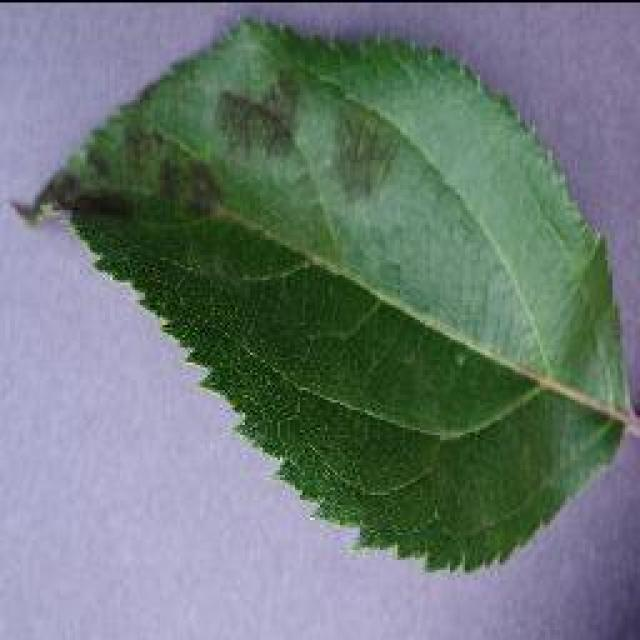apple scab disease: (12, 13, 638, 575)
